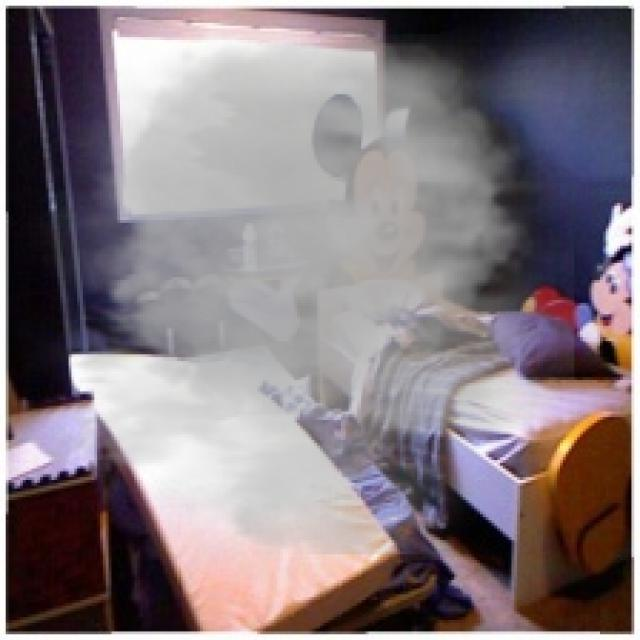smoke: (9, 12, 574, 554)
